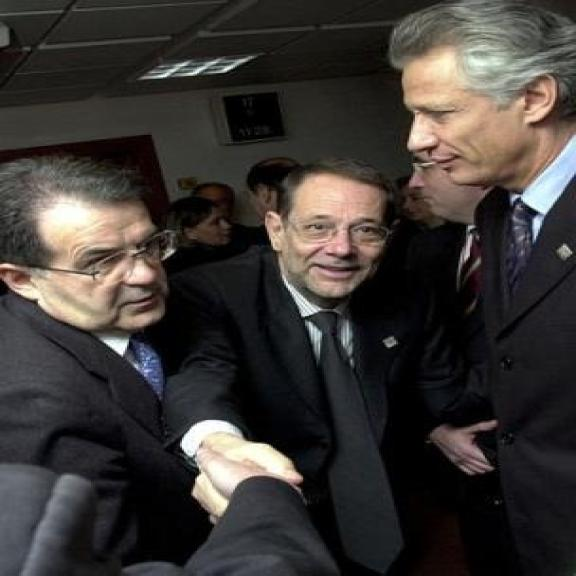face: (0, 193, 189, 337), (399, 56, 560, 188), (258, 179, 392, 304), (180, 199, 238, 249)
